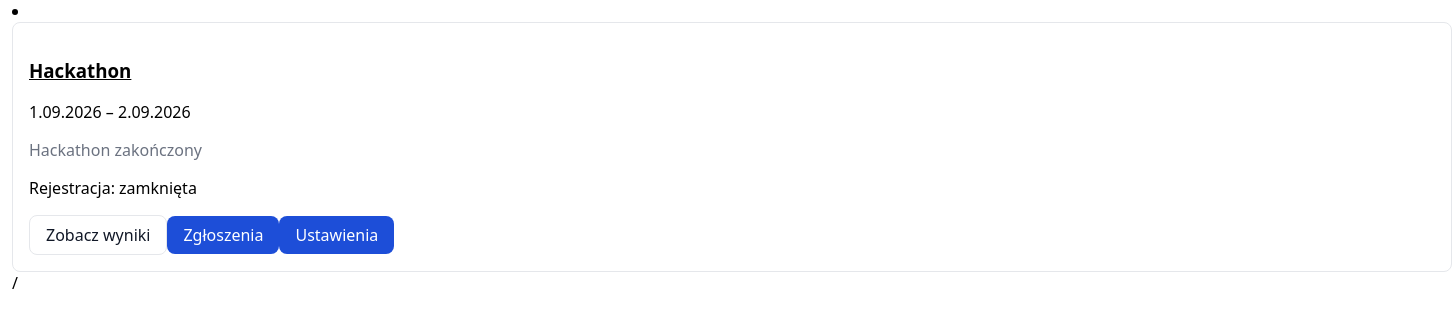
Test: HackathonListItem registrations link › opens registrations for owner
Click the button "Zgłoszenia": (223,235) [167,216,279,254]
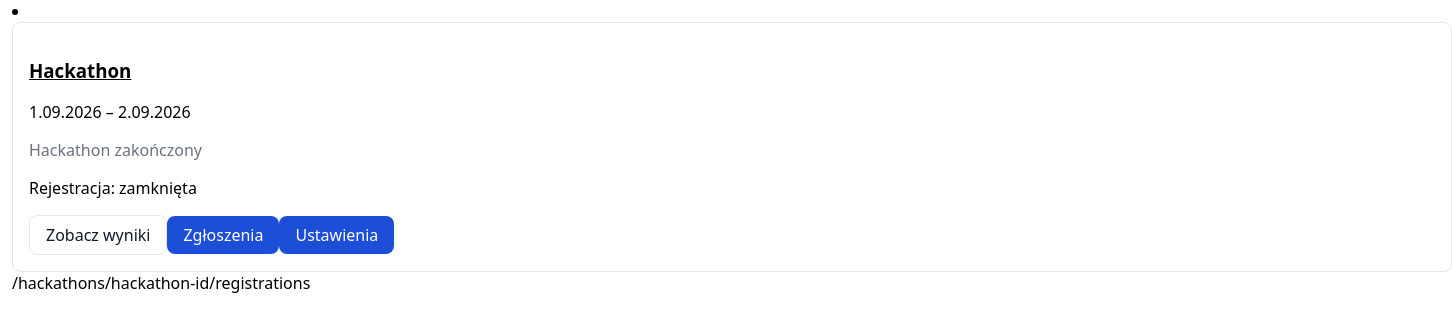
Expected: the text "/hackathons/hackathon-id/registrations" is shown, [12,272,310,294]
